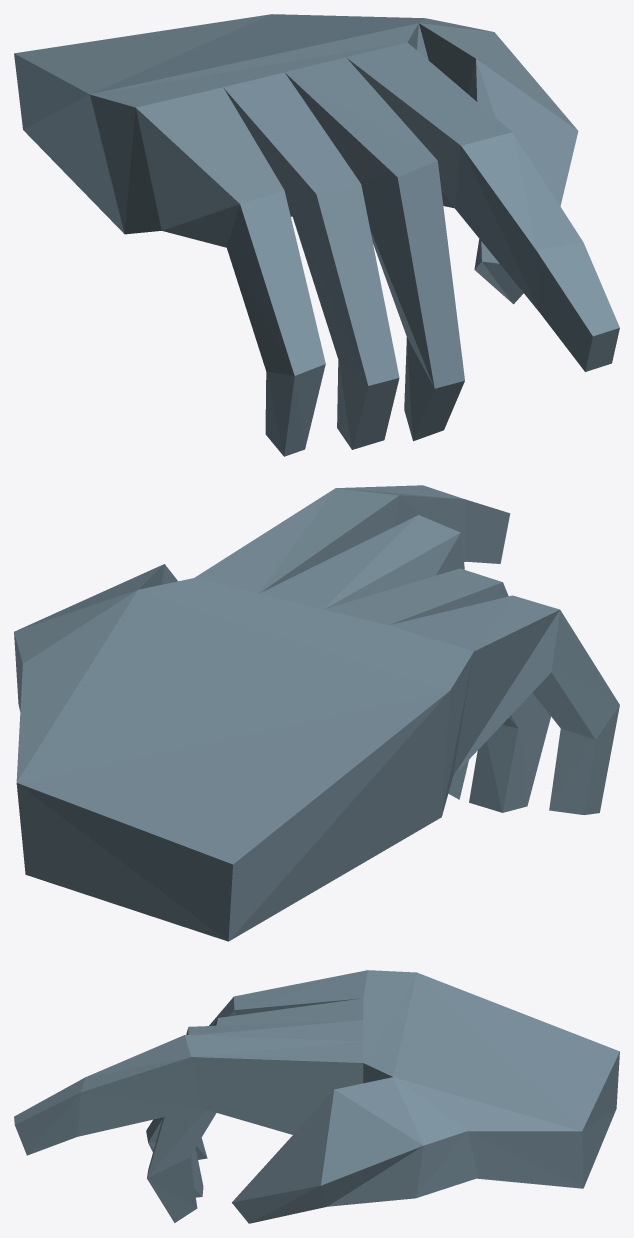
File: scene_xqVtsY0AS9.glb
3 views of the same model, one above another, from view 1: azimuth 30°, elevation 25°; view 2: azimuth 150°, elevation 25°; view 3: azimuth 270°, elevation 25° (orthographic). The views are drawn at different scales.
Parts seen in each view (by area): view 1: group2098783903; view 2: group2098783903; view 3: group2098783903.
Boxes of the visible parts, x1,y1,x2,y2 form: group2098783903: (14, 14, 619, 456); group2098783903: (14, 485, 619, 941); group2098783903: (14, 970, 619, 1223).
Size of the model in its own units: 0.1627 by 0.103 by 0.2813.
